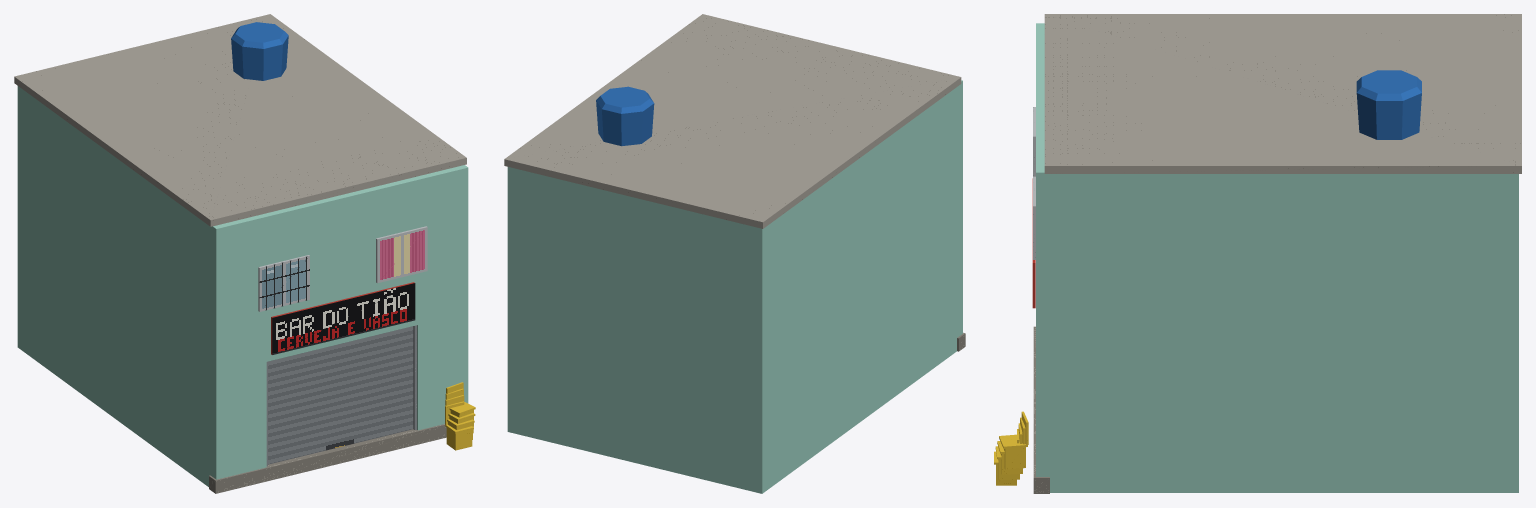
The model's file is bar_do_tiao_fechado.glb.
3 renders of one model, left to right at view 1: azimuth 30°, elevation 25°; view 2: azimuth 150°, elevation 25°; view 3: azimuth 270°, elevation 25°, orthographic. The views are drawn at different scales.
Visible parts, largest first — view 1: bar_do_ze_fechado-col; view 2: bar_do_ze_fechado-col; view 3: bar_do_ze_fechado-col.
Boxes of the visible parts, <box> form: bar_do_ze_fechado-col: <box>14,14,475,493</box>; bar_do_ze_fechado-col: <box>504,14,965,493</box>; bar_do_ze_fechado-col: <box>994,14,1521,493</box>.
Bounding box in the file's own units: 6.1 × 7 × 8.96.
Materials: 1 (1 with a texture image).
